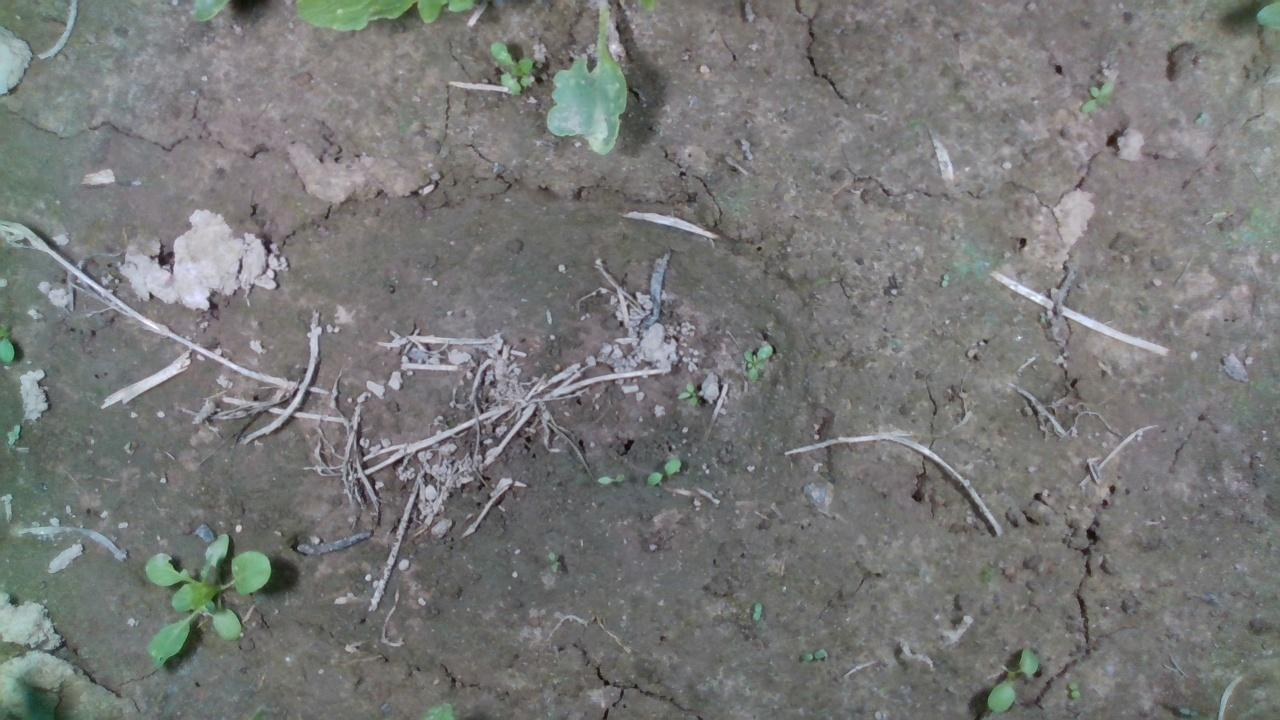weed: (984, 643, 1037, 714), (1076, 78, 1113, 113), (644, 456, 681, 485), (740, 348, 766, 382), (674, 379, 703, 403), (594, 470, 627, 485), (1066, 680, 1080, 701)
